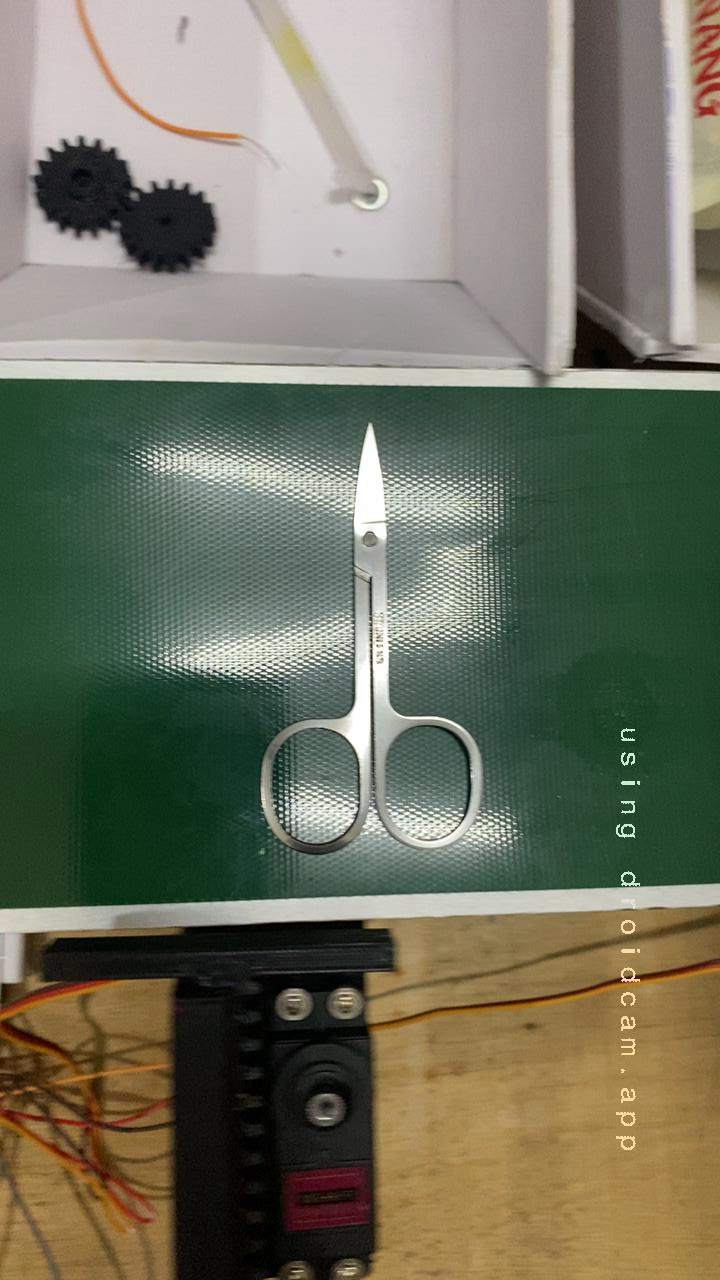scissor: (217, 423, 505, 877)
